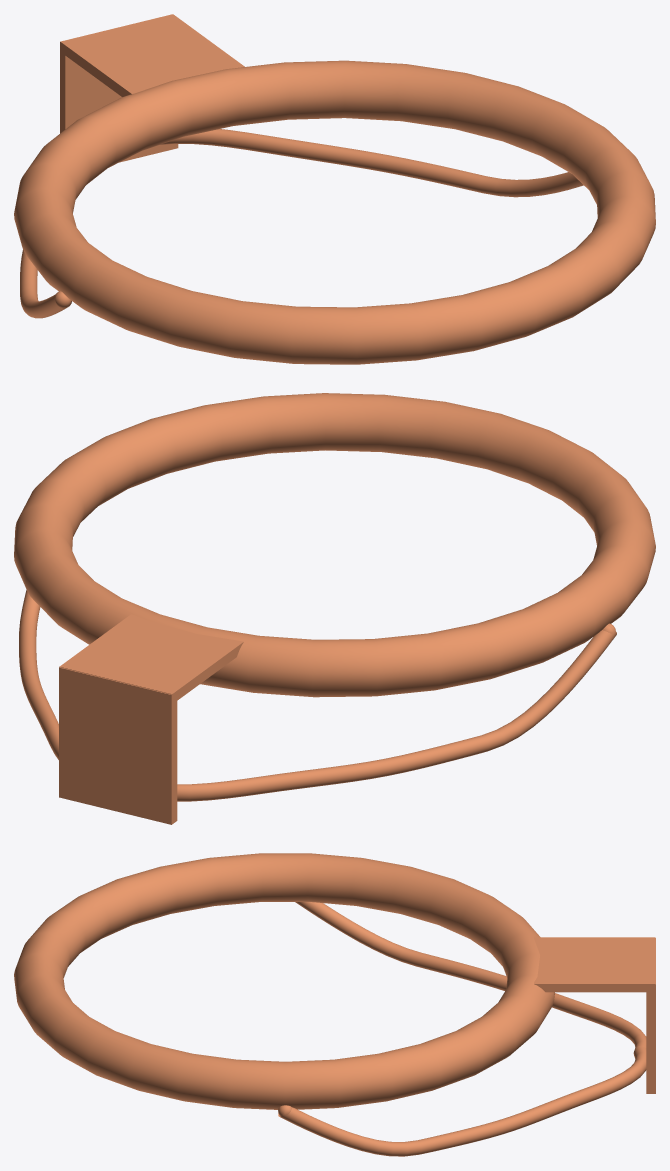
The model's file is Hoop.fbx.
3 views of the same model, one above another, from view 1: azimuth 30°, elevation 25°; view 2: azimuth 150°, elevation 25°; view 3: azimuth 270°, elevation 25° (orthographic). The views are drawn at different scales.
Visible parts, largest first — view 1: nurbsToPoly1, nurbsToPoly2, nurbsToPoly16, nurbsToPoly9, nurbsToPoly14, nurbsToPoly7, nurbsToPoly13; view 2: nurbsToPoly1, nurbsToPoly8, nurbsToPoly14, nurbsToPoly2, nurbsToPoly16, nurbsToPoly13, nurbsToPoly7; view 3: nurbsToPoly1, nurbsToPoly16, nurbsToPoly2, nurbsToPoly14, nurbsToPoly12, nurbsToPoly6.
Boxes of the visible parts, box(x1,y1,x2,y2) form: nurbsToPoly1: box(14, 60, 655, 364); nurbsToPoly2: box(61, 14, 244, 93); nurbsToPoly16: box(160, 129, 583, 197); nurbsToPoly9: box(65, 56, 178, 162); nurbsToPoly14: box(20, 250, 71, 318); nurbsToPoly7: box(60, 42, 131, 96); nurbsToPoly13: box(60, 42, 65, 133); nurbsToPoly1: box(14, 393, 655, 697); nurbsToPoly8: box(59, 667, 171, 824); nurbsToPoly14: box(177, 625, 616, 801); nurbsToPoly2: box(60, 614, 243, 693); nurbsToPoly16: box(19, 590, 58, 759); nurbsToPoly13: box(171, 692, 177, 824); nurbsToPoly7: box(172, 642, 243, 703); nurbsToPoly1: box(14, 853, 554, 1109); nurbsToPoly16: box(278, 1046, 646, 1156); nurbsToPoly2: box(534, 937, 654, 983); nurbsToPoly14: box(295, 902, 646, 1055); nurbsToPoly12: box(646, 984, 655, 1093); nurbsToPoly6: box(534, 984, 654, 992).
Size of the model in its own units: 4.44 by 0.9943 by 5.19.
